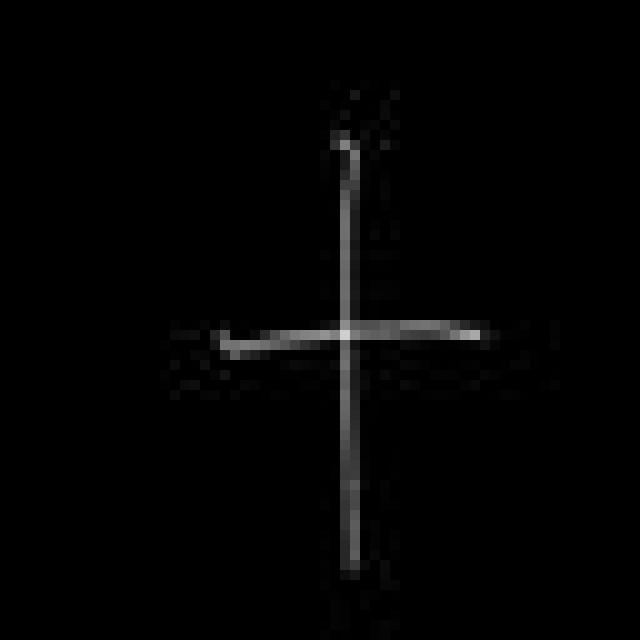10 -ten-: (208, 118, 491, 583)
